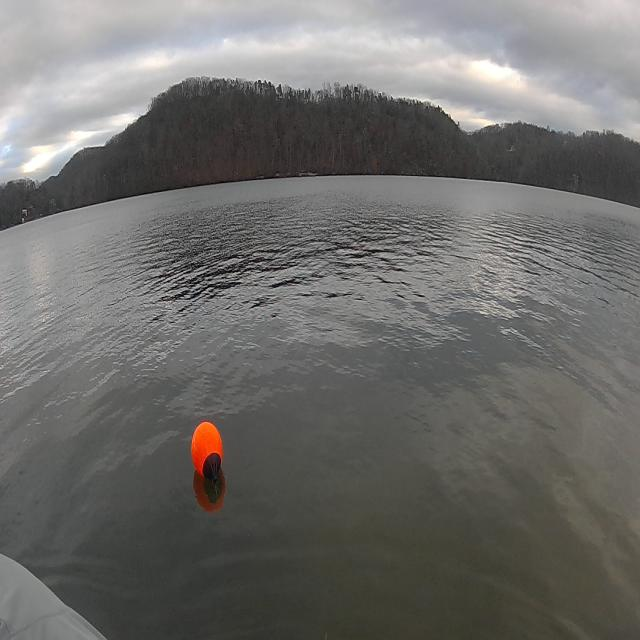Buoy: (186, 412, 231, 502)
